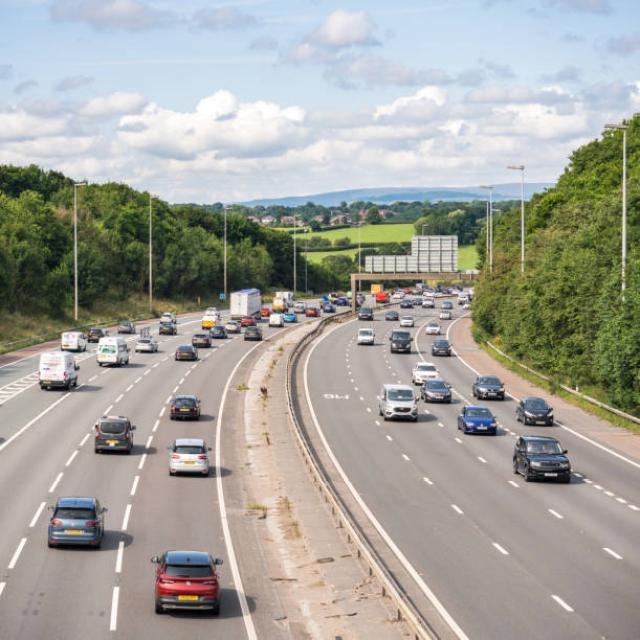Car: (150, 549, 223, 616), (47, 496, 107, 549), (511, 434, 570, 482), (93, 414, 136, 454), (168, 437, 210, 476), (457, 405, 498, 435), (514, 396, 554, 426), (471, 374, 505, 400), (169, 394, 201, 420)
